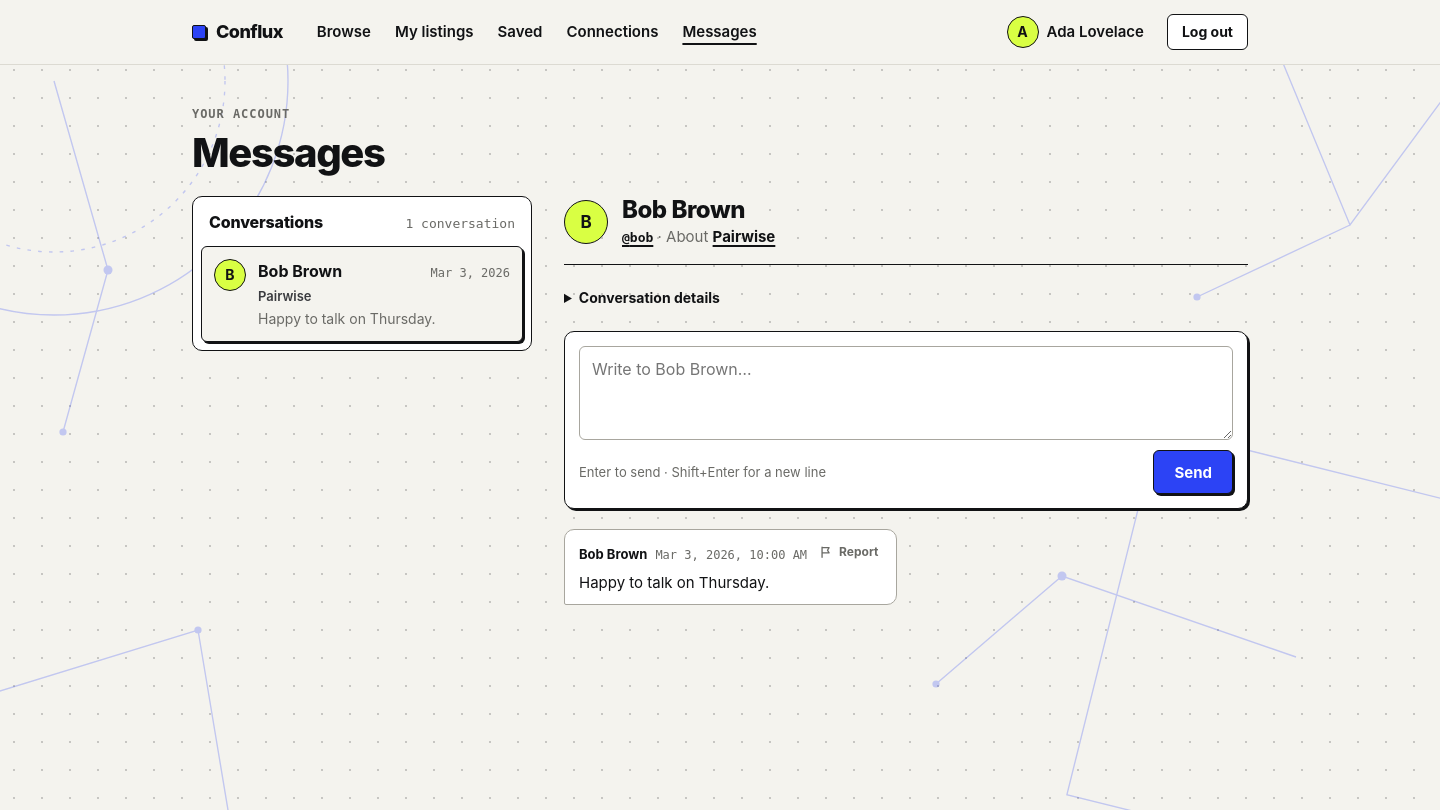
Test: Sending a message › does not send a blank message ()
Expected: the text "Happy to talk on Thursday." below "Mar 3, 2026, 10:00 AM" is shown, [579,573,769,592]
Click the button "Send". click: (1193, 472)
box: [1153,450,1233,494]
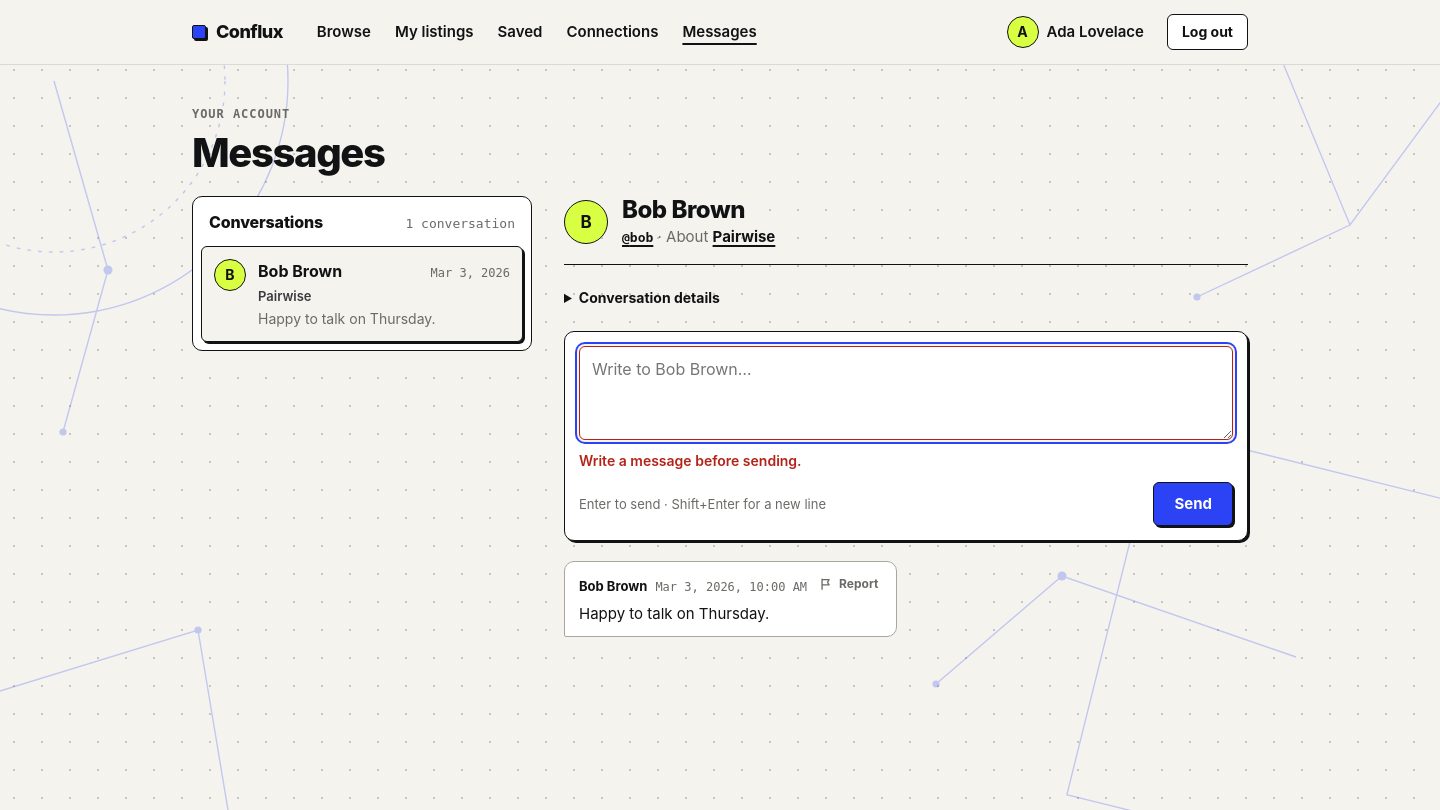
Expected: the message "Write a message before sending." is shown, [579,452,802,469]
Type "Now with text" into the text box named "Message to Bob Brown". click: (906, 393)
box: [579,346,1233,440]
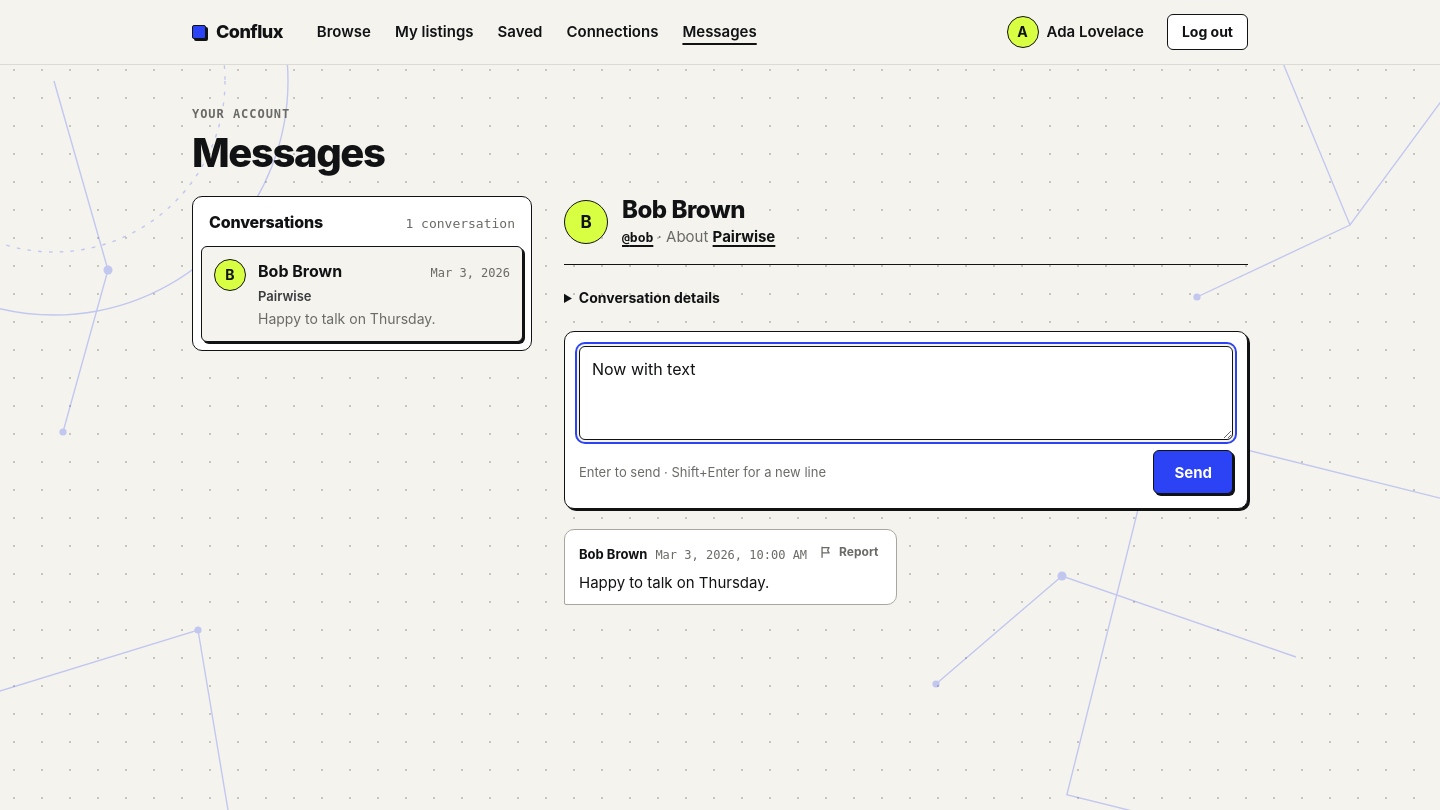
Expected: the message "Write a message before sending." is gone
